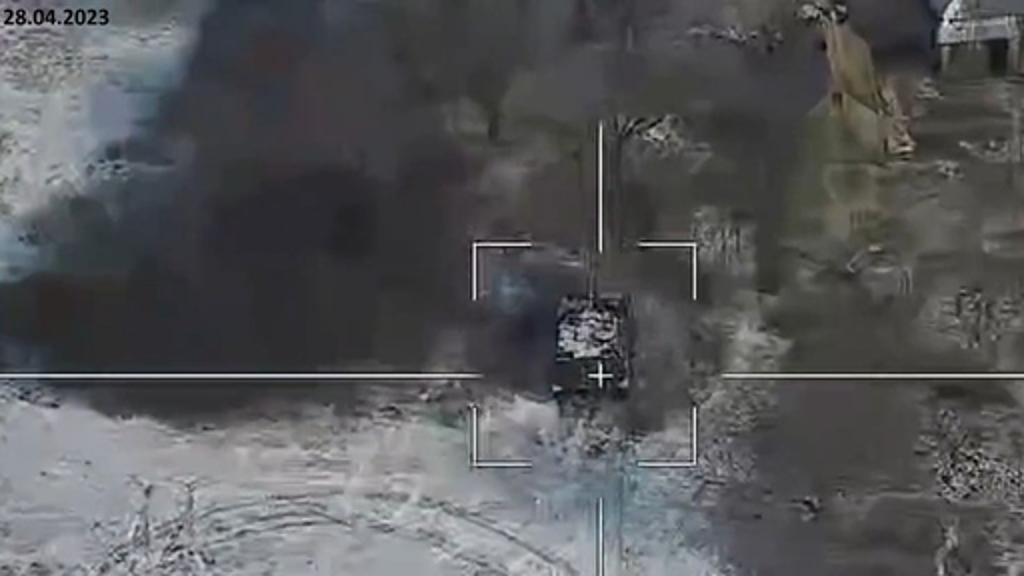ART: (544, 246, 640, 404)
